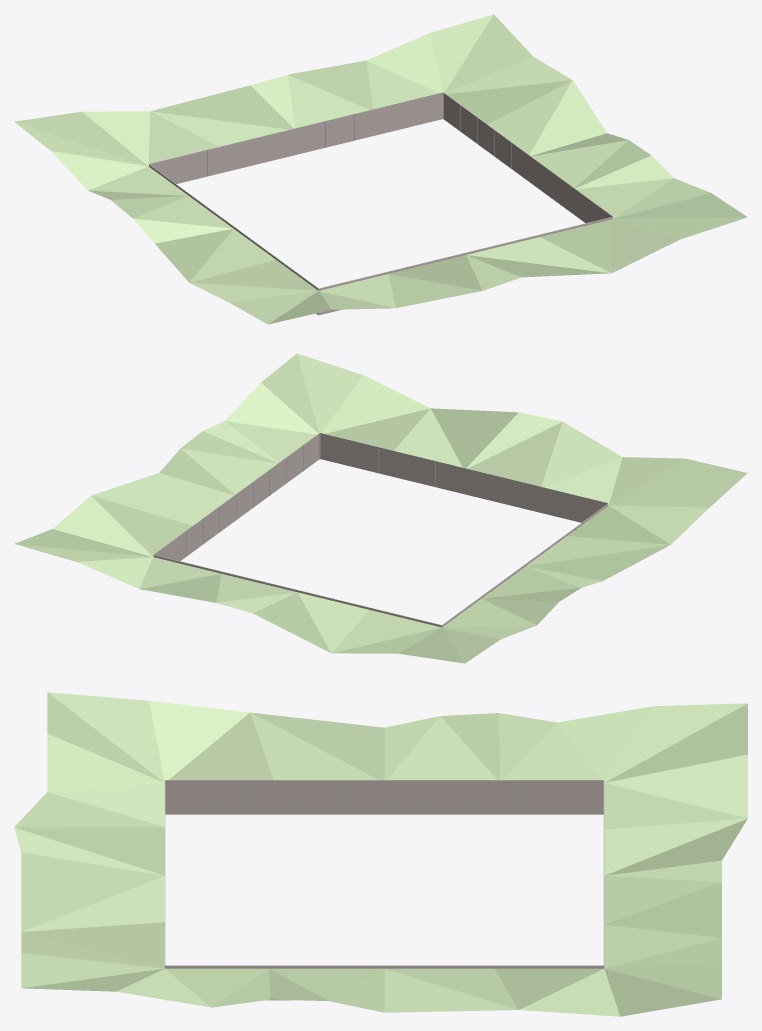
Rendered from FenceBarrier.fbx.
The picture shows the model from 3 angles, top to bottom: view 1: azimuth 30°, elevation 25°; view 2: azimuth 150°, elevation 25°; view 3: azimuth 270°, elevation 25°; orthographic projection. The views are drawn at different scales.
Visible parts, largest first — view 1: FenceBarrier; view 2: FenceBarrier; view 3: FenceBarrier.
Part boxes in pixels (<box>): FenceBarrier: <box>14,14,747,324</box>; FenceBarrier: <box>14,353,747,663</box>; FenceBarrier: <box>14,692,747,1016</box>.
Bounding box in the file's own units: 827 × 77.44 × 835.
